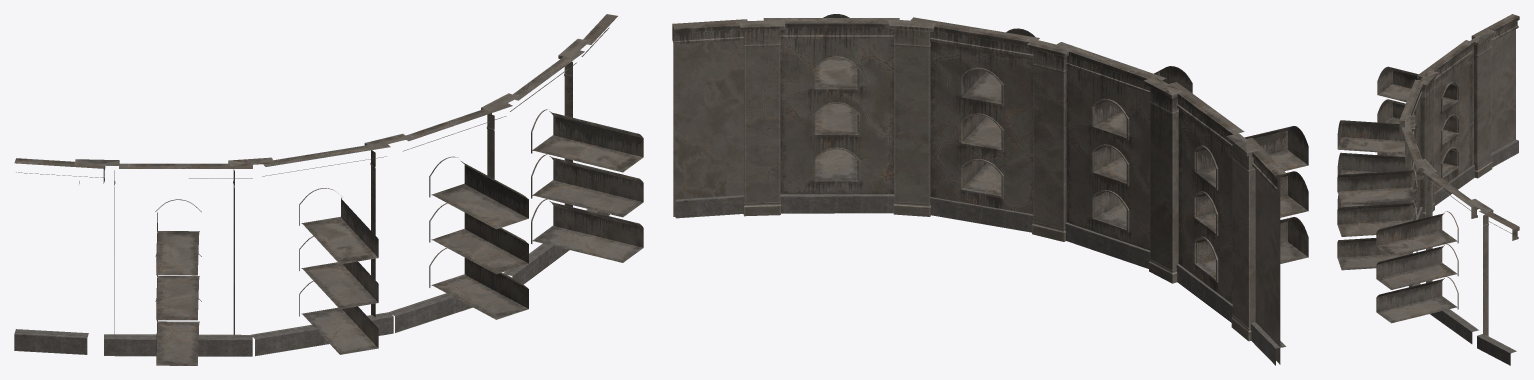
The model's file is SM_Mausoleum.glb.
3 views of the same model, side by side, from view 1: azimuth 30°, elevation 25°; view 2: azimuth 150°, elevation 25°; view 3: azimuth 270°, elevation 25° (orthographic). The views are drawn at different scales.
Visible parts, largest first — view 1: SM_Mausoleum; view 2: SM_Mausoleum; view 3: SM_Mausoleum.
Boxes of the visible parts, <box> form: SM_Mausoleum: <box>14,14,643,365</box>; SM_Mausoleum: <box>672,14,1308,365</box>; SM_Mausoleum: <box>1337,14,1519,365</box>.
Bounding box in the file's own units: 15.17 × 4.5 × 5.43.
4 materials, 4 textured.
